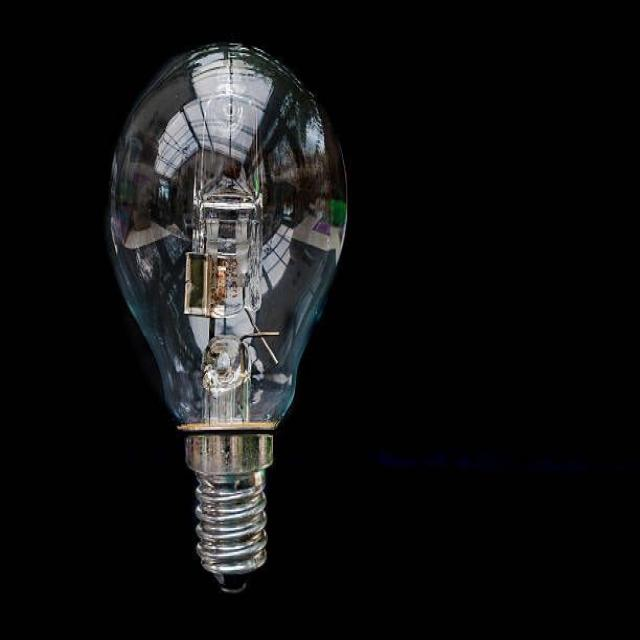electronic: (107, 40, 348, 592)
